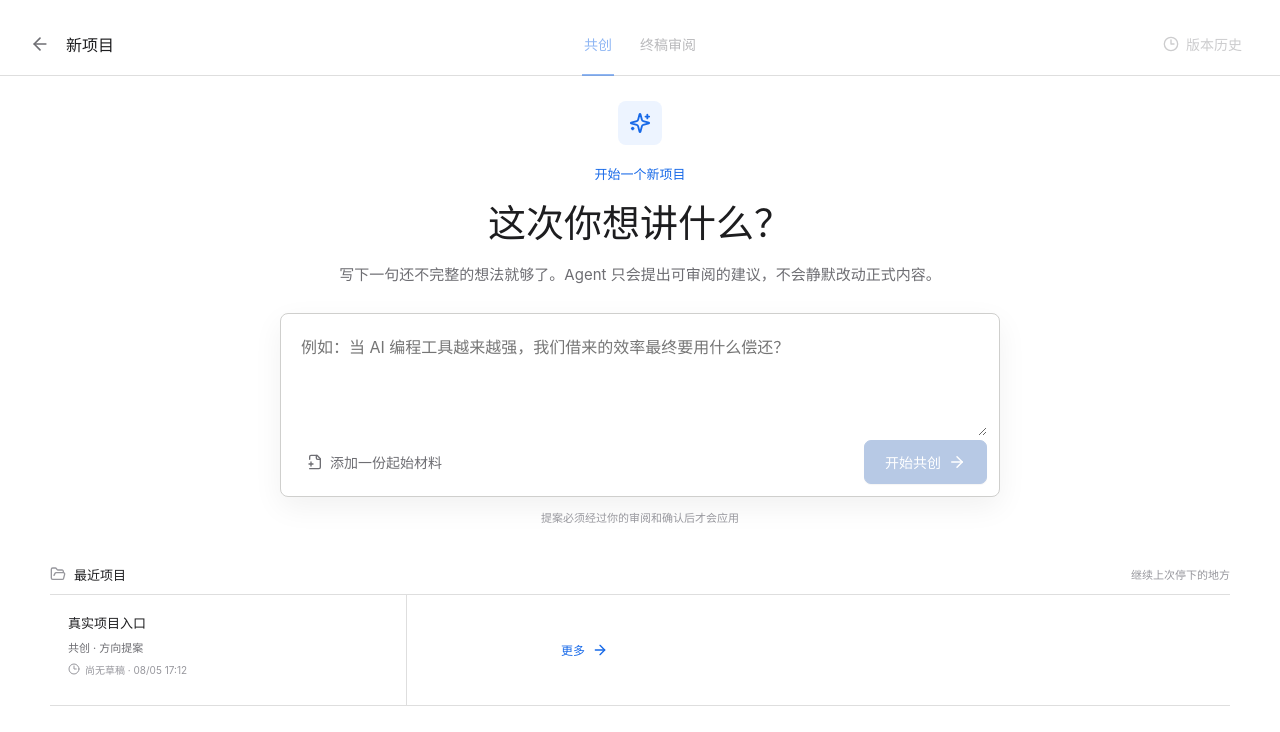
it: Spark to Script runtime surface › restores the original home recent-project rail and document-style project list
The width and height of the screenshot is (1280, 732).
(page scrolled)
Expected: the heading "最近项目" is shown, 74,565 -> 126,584
Expected: the element with class "recent-projects__rail" is shown, 50,594 -> 1230,706
Click the button "更多": [584, 650] box 406,595 -> 762,705
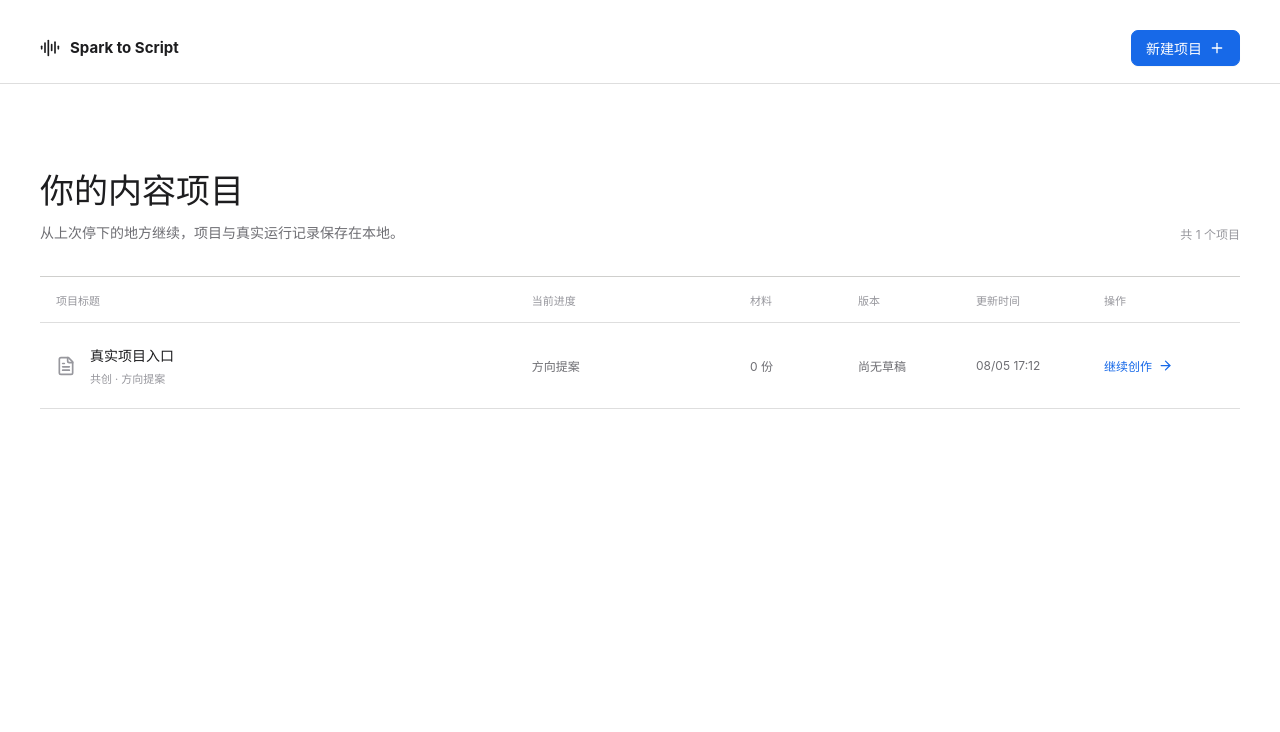
Expected: the heading "你的内容项目" is shown, 40,170 -> 244,211
Expected: the element named "内容项目" is shown, 40,276 -> 1240,409
Expected: the button "真实项目入口 共创 · 方向提案 方向提案 0 份 尚无草稿 08/05 17:12 继续创作" is shown, 40,323 -> 1240,409
